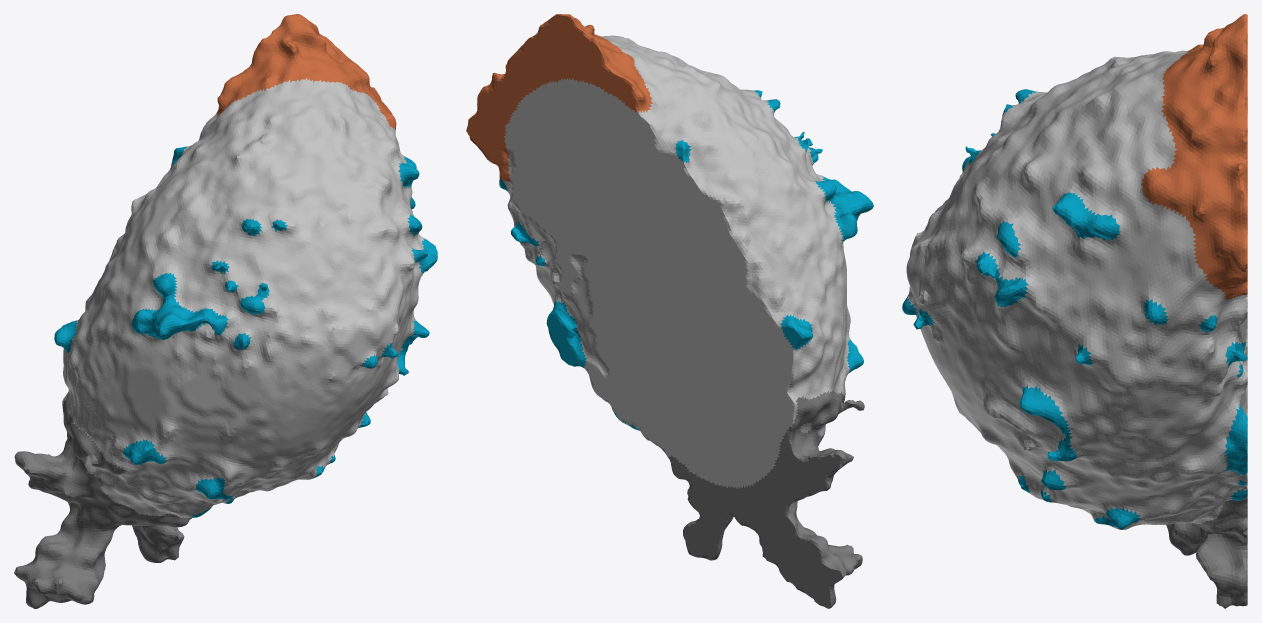
The picture shows the model from 3 angles, left to right: view 1: azimuth 30°, elevation 25°; view 2: azimuth 150°, elevation 25°; view 3: azimuth 270°, elevation 25°; orthographic projection. The views are drawn at different scales.
Size of the model in its own units: 116 by 155 by 69.86.
